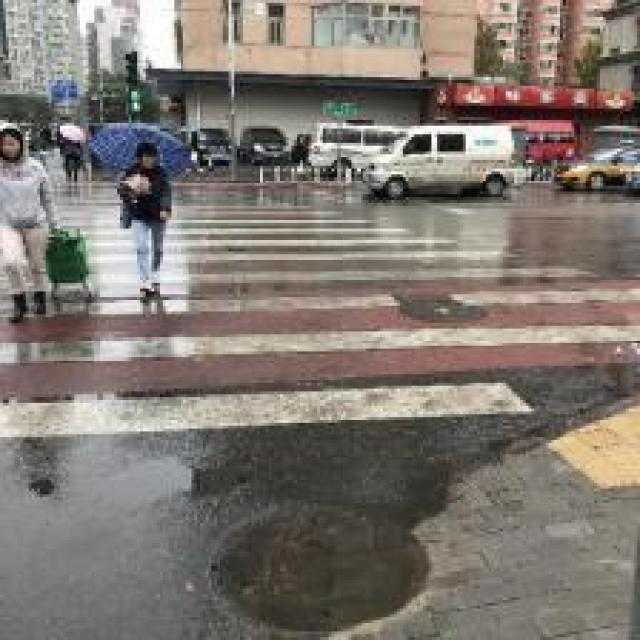walk-crossing: (17, 204, 631, 448)
